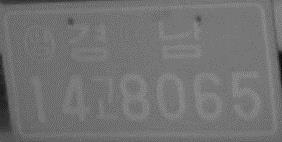0: (154, 71, 186, 121)
1: (25, 73, 53, 125)
4: (57, 73, 92, 125)
5: (229, 68, 262, 121)
6: (191, 70, 225, 122)
8: (117, 71, 151, 123)
경남_D: (64, 15, 206, 65)
고: (90, 74, 119, 124)
영: (22, 23, 58, 63)
